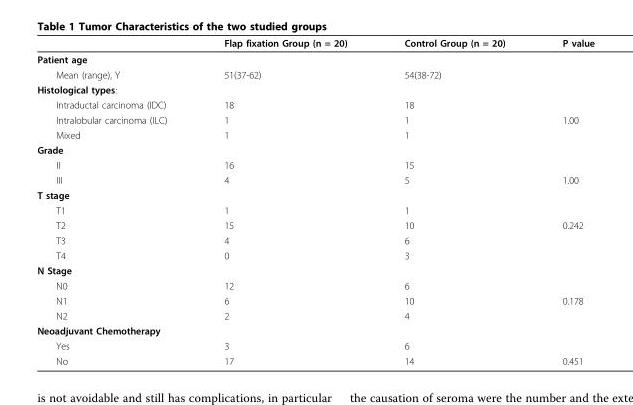table: (36, 36, 593, 366)
table column: (194, 36, 375, 366), (36, 36, 194, 366), (375, 36, 533, 366), (533, 36, 593, 366)
table column header: (36, 36, 593, 50)
table projected row header: (36, 50, 593, 66), (36, 81, 593, 96), (36, 142, 593, 157), (36, 187, 593, 202), (36, 262, 593, 277), (36, 322, 593, 337)
table row: (36, 50, 593, 66), (36, 96, 593, 112), (36, 337, 593, 353), (36, 66, 593, 81), (36, 81, 593, 96), (36, 112, 593, 127), (36, 127, 593, 142), (36, 142, 593, 157), (36, 157, 593, 172), (36, 172, 593, 187), (36, 187, 593, 202), (36, 202, 593, 217), (36, 217, 593, 232), (36, 232, 593, 247), (36, 247, 593, 262), (36, 262, 593, 277), (36, 277, 593, 292), (36, 292, 593, 307), (36, 307, 593, 322), (36, 322, 593, 337), (36, 36, 593, 50), (36, 353, 593, 366)
